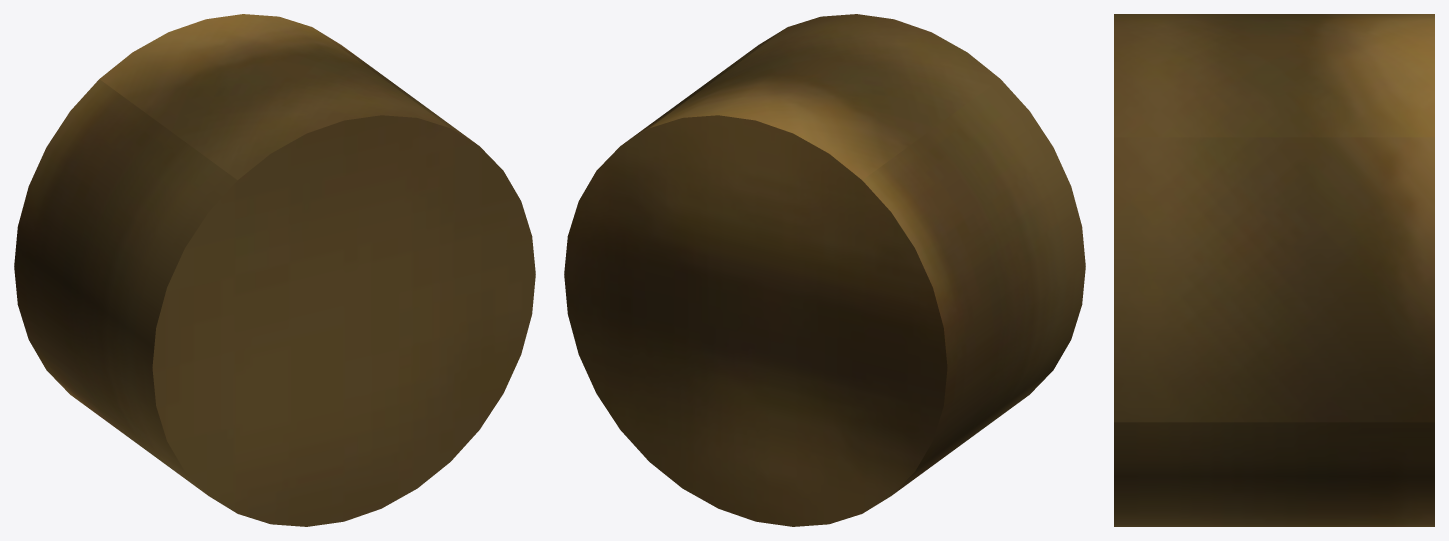
The model's file is body__vane_0_lower_mount.glb.
3 views of the same model, side by side, from view 1: azimuth 30°, elevation 25°; view 2: azimuth 150°, elevation 25°; view 3: azimuth 270°, elevation 25° (orthographic). The views are drawn at different scales.
Visible parts, largest first — view 1: geometry_0; view 2: geometry_0; view 3: geometry_0.
Boxes of the visible parts, x1,y1,x2,y2 form: geometry_0: (14,14,535,526); geometry_0: (564,14,1085,526); geometry_0: (1114,14,1434,526).
Size of the model in its own units: 0.0064 by 0.0064 by 0.004.
1 material, 1 textured.
